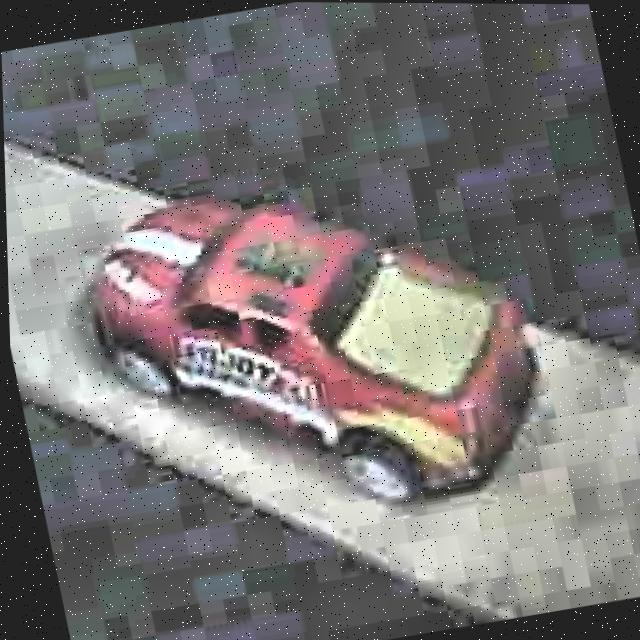car: (64, 139, 567, 559)
